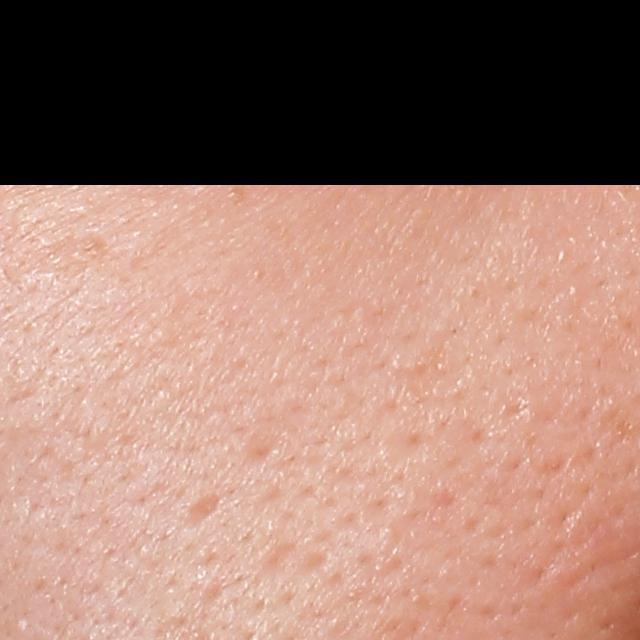atrophic_scar: (179, 490, 223, 533), (260, 533, 298, 573), (240, 437, 276, 468)
